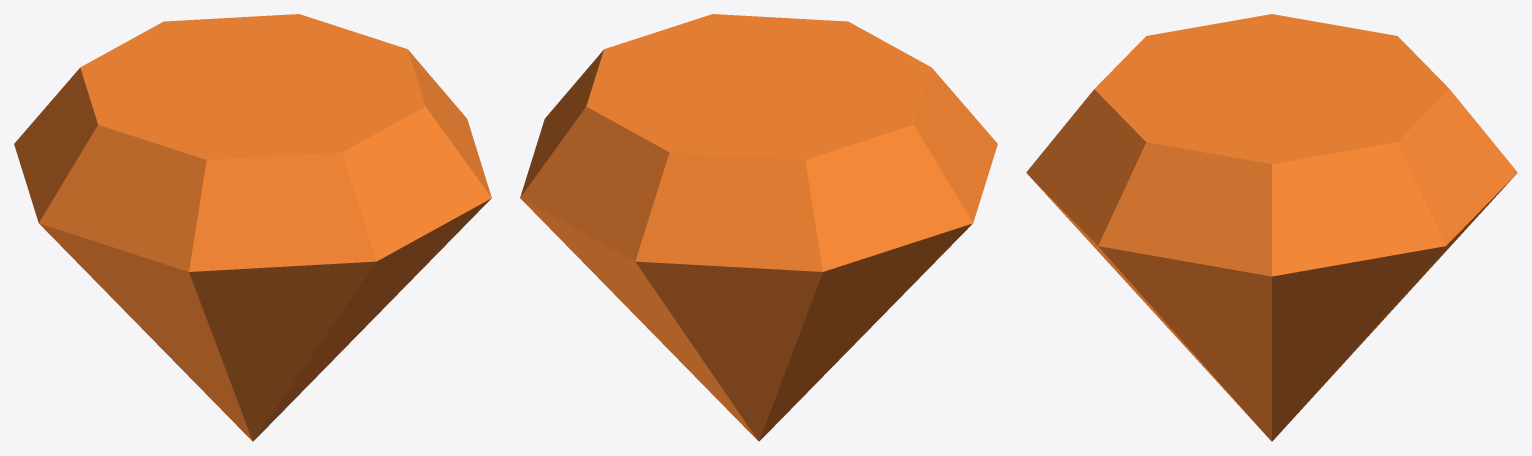
The model's file is Diamond_Orange.fbx.
3 renders of one model, left to right at view 1: azimuth 30°, elevation 25°; view 2: azimuth 150°, elevation 25°; view 3: azimuth 270°, elevation 25°, orthographic.
Visible parts, largest first — view 1: Diamond Orange; view 2: Diamond Orange; view 3: Diamond Orange.
Boxes of the visible parts, x1,y1,x2,y2 form: Diamond Orange: (14,14,491,441); Diamond Orange: (520,14,997,441); Diamond Orange: (1026,14,1517,441).
Size of the model in its own units: 59.1 by 46.79 by 59.1.
1 material, 1 textured.
